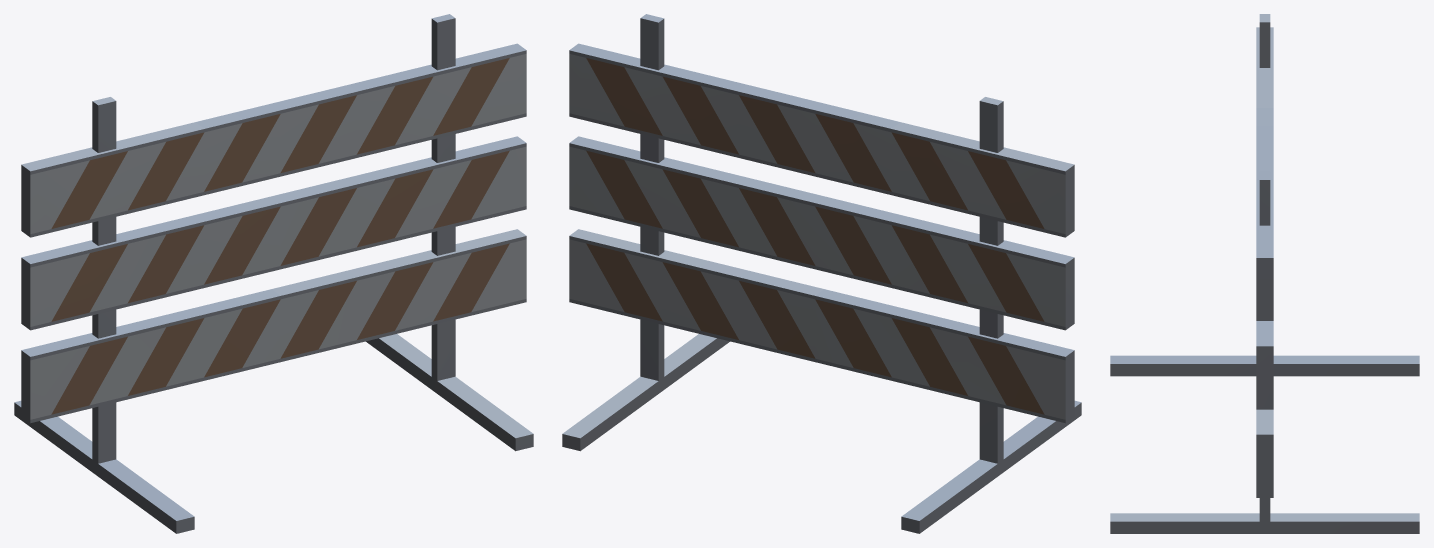
The model's file is barrier_striped.glb.
The picture shows the model from 3 angles, left to right: view 1: azimuth 30°, elevation 25°; view 2: azimuth 150°, elevation 25°; view 3: azimuth 270°, elevation 25°; orthographic projection. The views are drawn at different scales.
Visible parts, largest first — view 1: Prop; view 2: Prop; view 3: Prop.
Boxes of the visible parts, x1,y1,x2,y2 form: Prop: (14,14,533,533); Prop: (562,14,1081,533); Prop: (1110,14,1419,533).
Bounding box in the file's own units: 1.56 × 1.11 × 0.8806.
